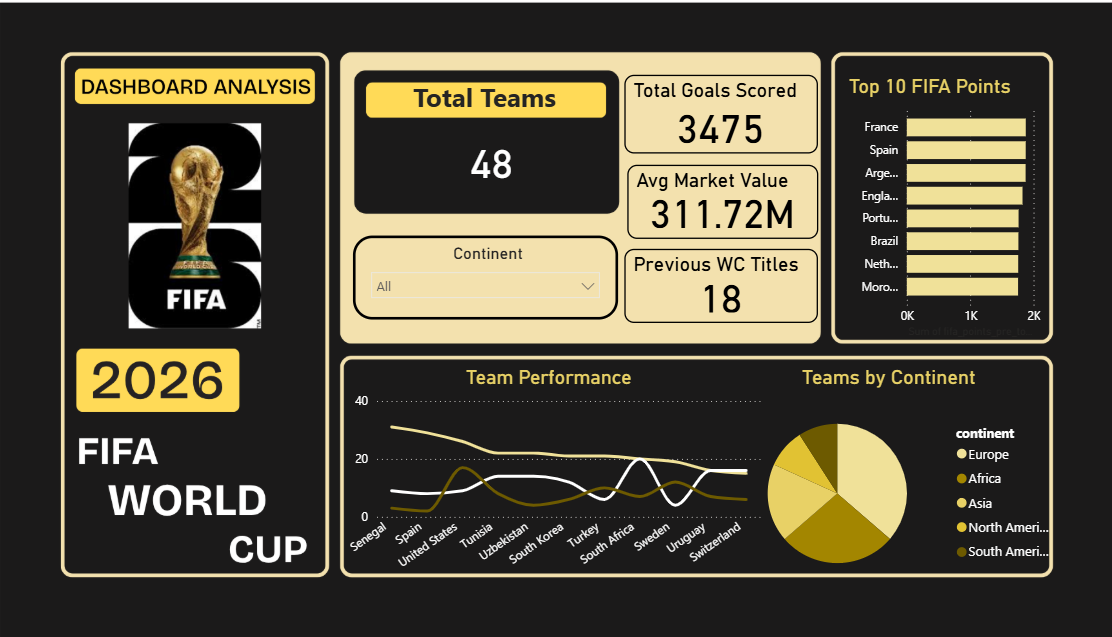

The page's visual inventory and layout, read from the dashboard file:
{"tool":"powerbi","page":{"name":"Page 1","canvas":[1280,720],"ordinal":0},"visuals":[{"type":"card","fields":{"Values":["Count(world_cup.team)"]},"box":[505.3,152.6,134.2,81.6],"z":0},{"type":"textbox","box":[442.1,105.3,247.4,47.4],"z":1000},{"type":"card","title":"Total Goals Scored","fields":{"Values":["Sum(world_cup.goals_scored_last_4y)"]},"box":[710.6,105.3,200,81.6],"z":2000},{"type":"card","title":"Previous WC Titles","fields":{"Values":["Sum(world_cup.world_cup_titles_before)"]},"box":[710.6,284.2,200,76.3],"z":3000},{"type":"card","title":"Avg Market Value","fields":{"Values":["Avg(world_cup.squad_total_market_value_eur)"]},"box":[713.2,197.4,197.4,76.3],"z":4000},{"type":"barChart","title":"Top 10 FIFA Points","fields":{"Category":["world_cup.team"],"Y":["Sum(world_cup.fifa_points_pre_tournament)"]},"box":[936.9,105.3,207.9,276.3],"z":5000},{"type":"lineChart","title":"Team Performance","fields":{"Category":["world_cup.team"],"Y":["Sum(world_cup.wins_last_4y)","Sum(world_cup.draws_last_4y)","Sum(world_cup.losses_last_4y)"]},"box":[407.9,405.3,447.4,223.7],"z":6001},{"type":"pieChart","title":"Teams by Continent","fields":{"Category":["world_cup.continent"],"Y":["CountNonNull(world_cup.team)"]},"box":[802.7,405.3,360.6,242.1],"z":6002},{"type":"slicer","title":"Continent","fields":{"Values":["world_cup.continent"]},"box":[429,271.1,273.7,86.8],"z":6003}]}

Visuals, with their boxes in screenshot pixels (x1, y1, x2, y2), scaled from the page's 1280x720 canvas onto the 1112x637 screenshot:
card - Count(world_cup.team): Rect(439, 135, 556, 207)
textbox: Rect(384, 93, 599, 135)
"Total Goals Scored" card: Rect(617, 93, 791, 165)
"Previous WC Titles" card: Rect(617, 251, 791, 319)
"Avg Market Value" card: Rect(620, 175, 791, 242)
"Top 10 FIFA Points" barChart: Rect(814, 93, 995, 338)
"Team Performance" lineChart: Rect(354, 359, 743, 556)
"Teams by Continent" pieChart: Rect(697, 359, 1011, 573)
"Continent" slicer: Rect(373, 240, 610, 317)
